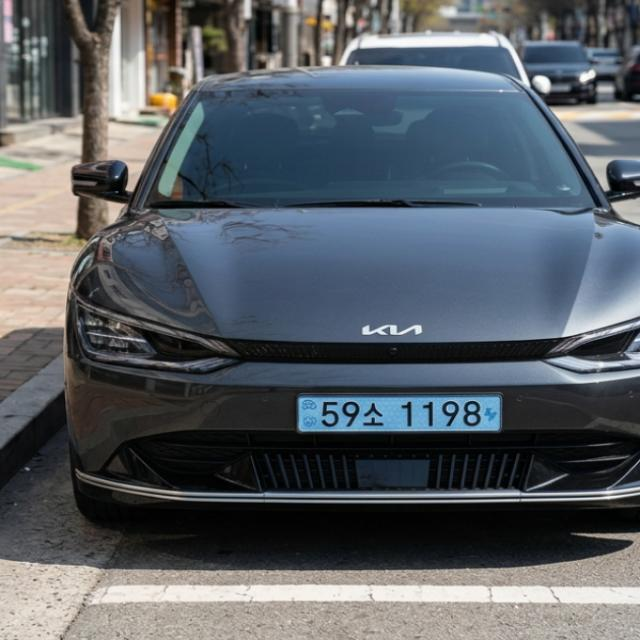car: (284, 388, 525, 447)
carev: (298, 396, 321, 432), (483, 394, 501, 433)
